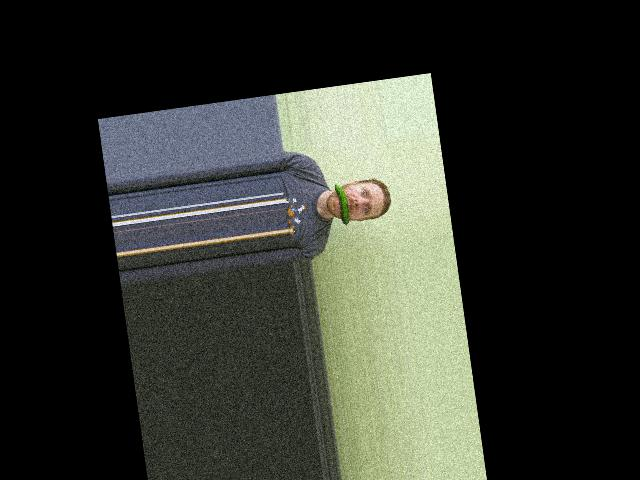cucumber: (333, 182, 350, 226)
